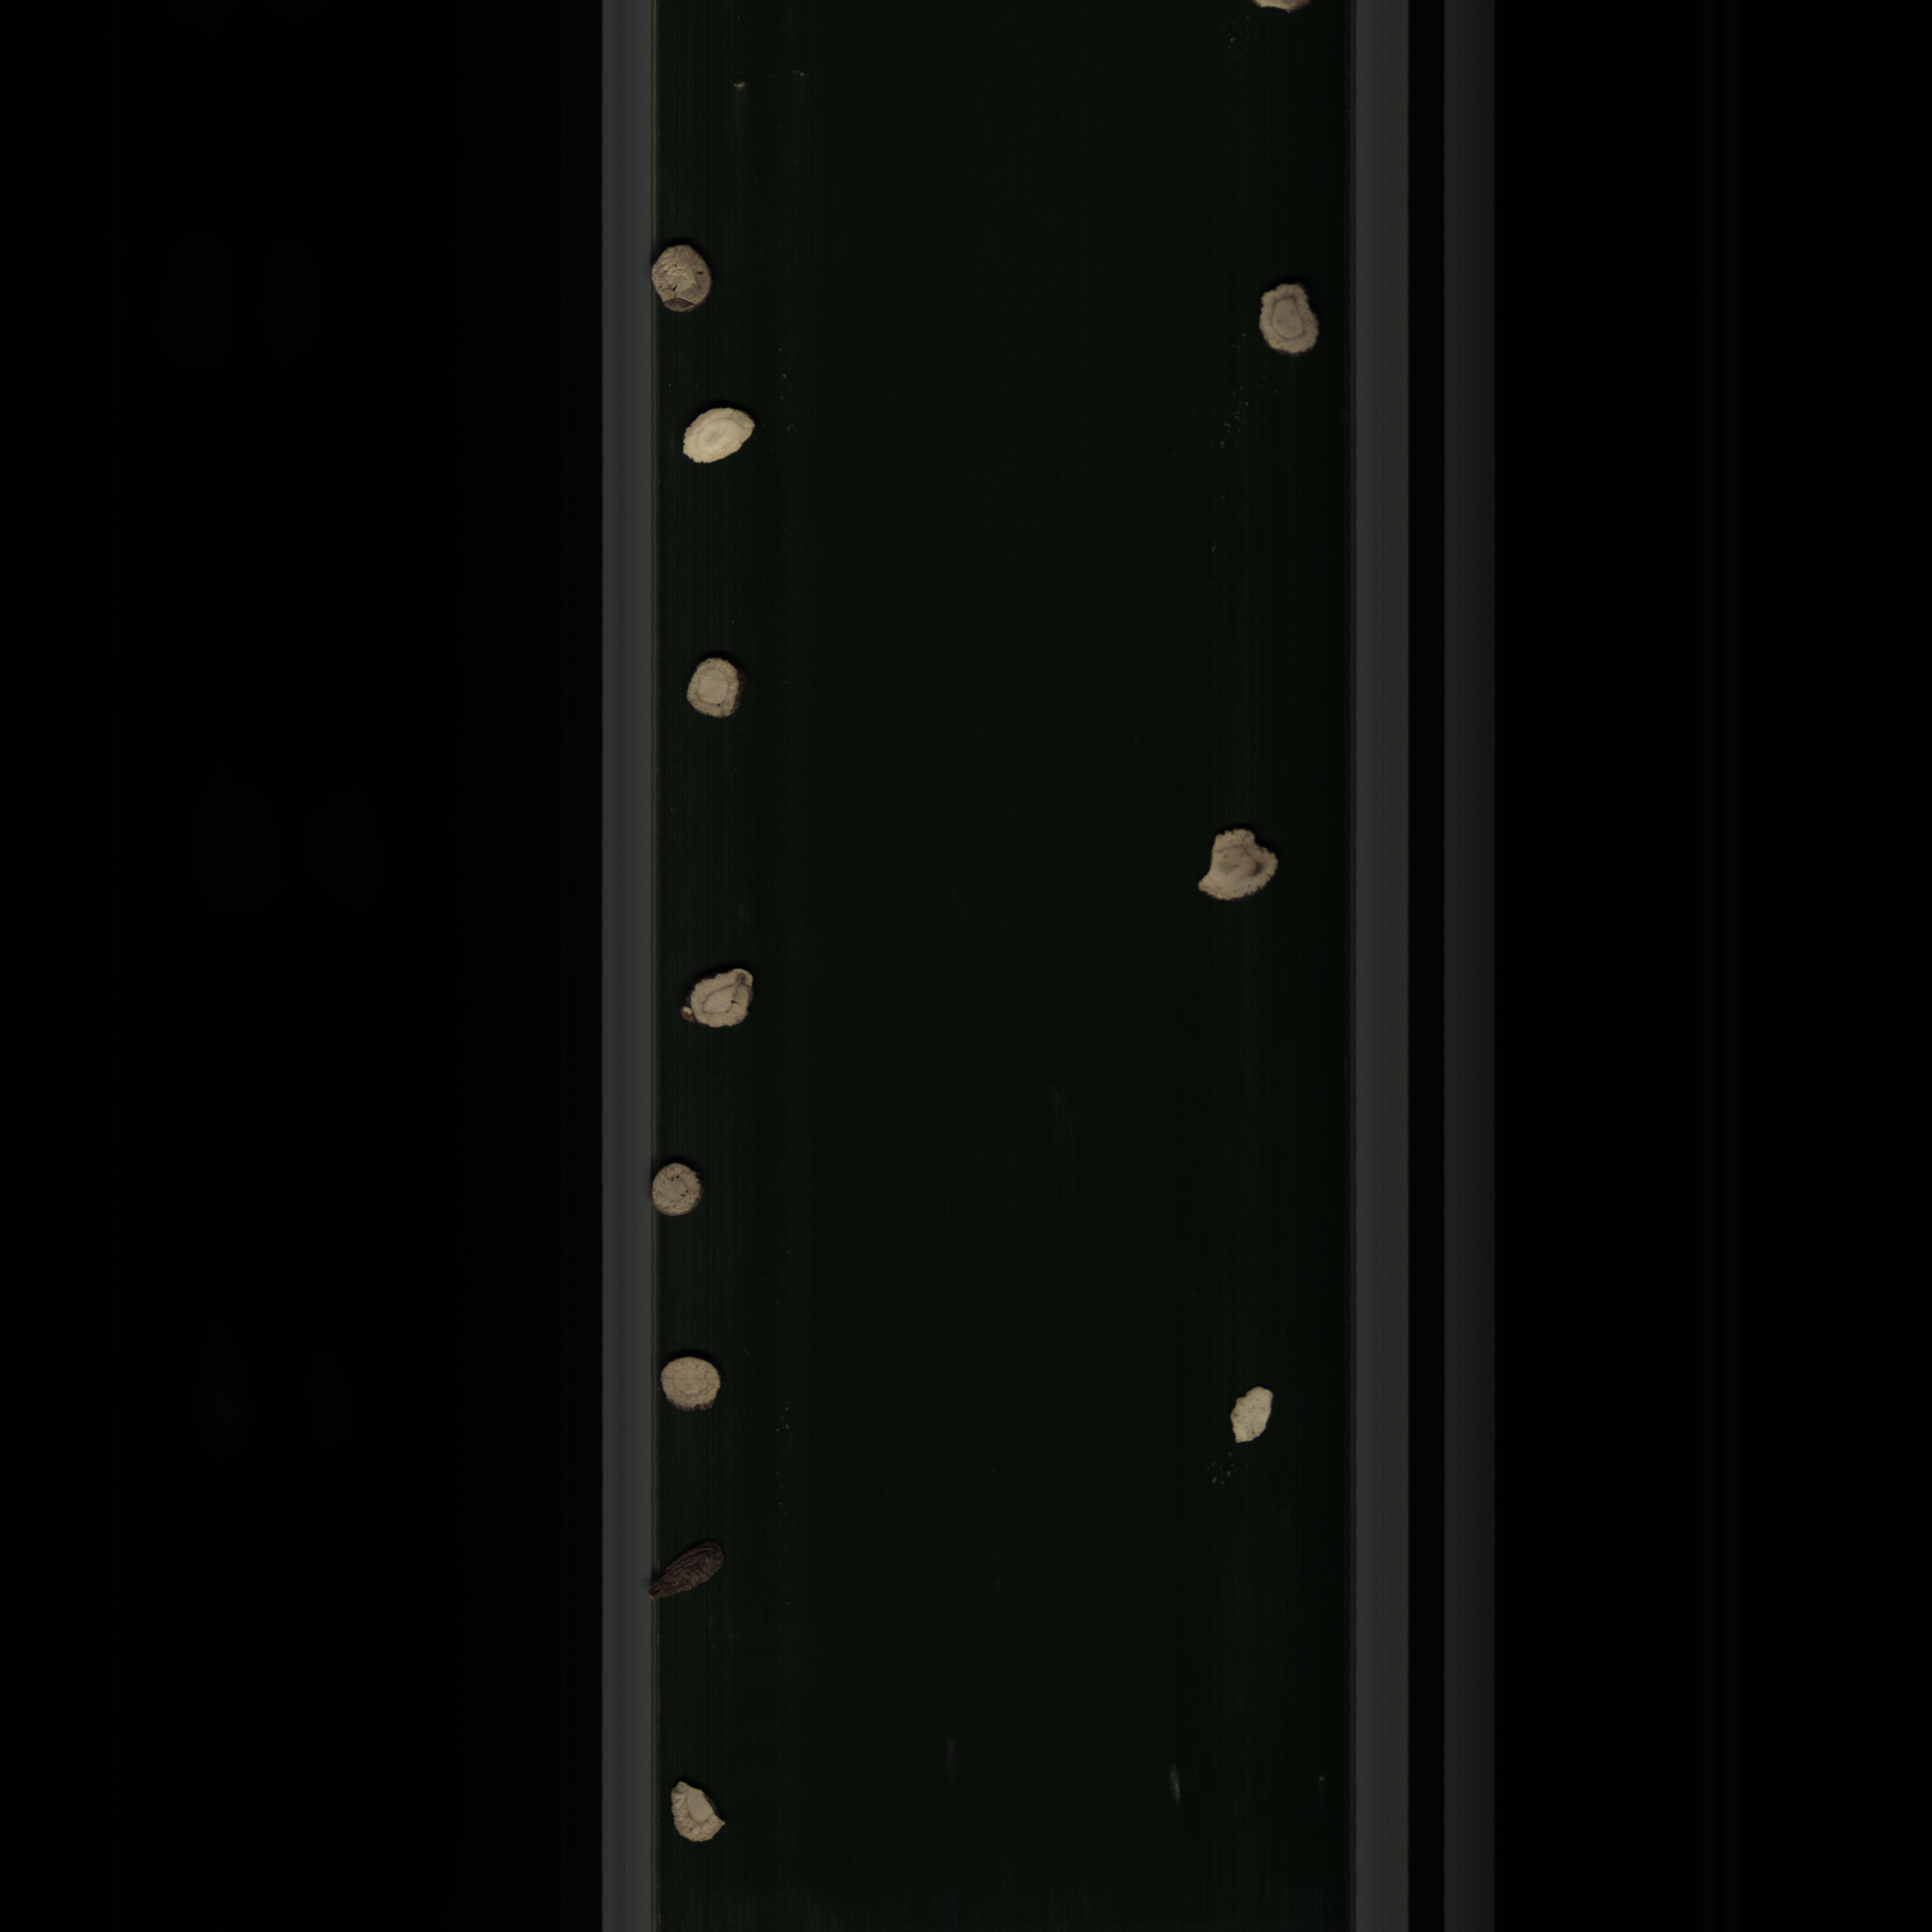bark: (642, 1536, 732, 1612)
debris: (1215, 1382, 1288, 1456), (663, 1778, 736, 1849)
distortion: (671, 961, 768, 1049)
moldy: (1194, 817, 1293, 920), (1249, 280, 1327, 372), (649, 239, 720, 317)
